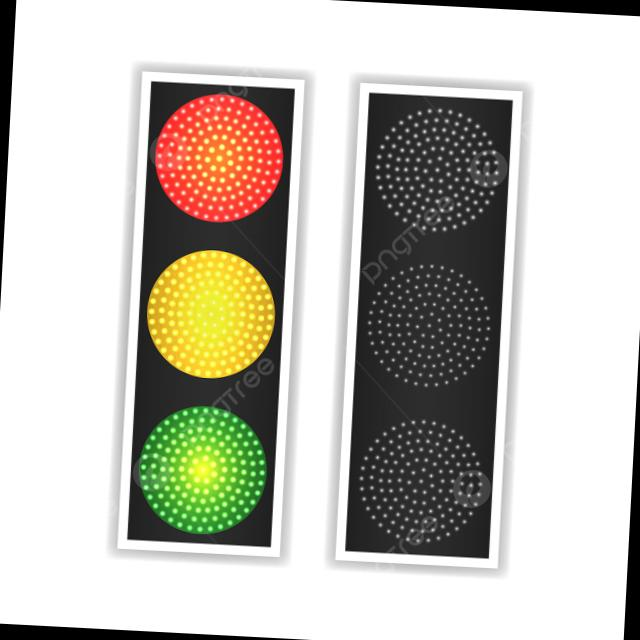green-lights: (140, 404, 274, 539)
red-lights: (152, 88, 288, 225)
yellow-lights: (146, 246, 280, 380)
